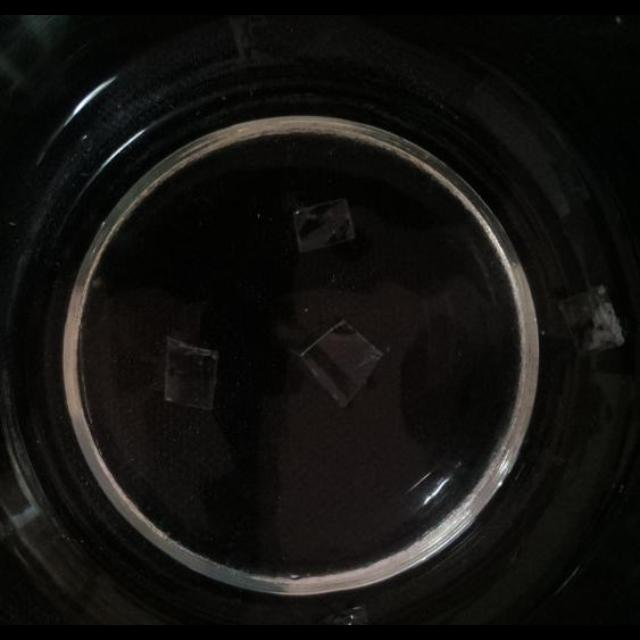Film: (290, 316, 390, 412), (160, 336, 222, 412), (557, 284, 625, 352), (292, 196, 358, 254)
